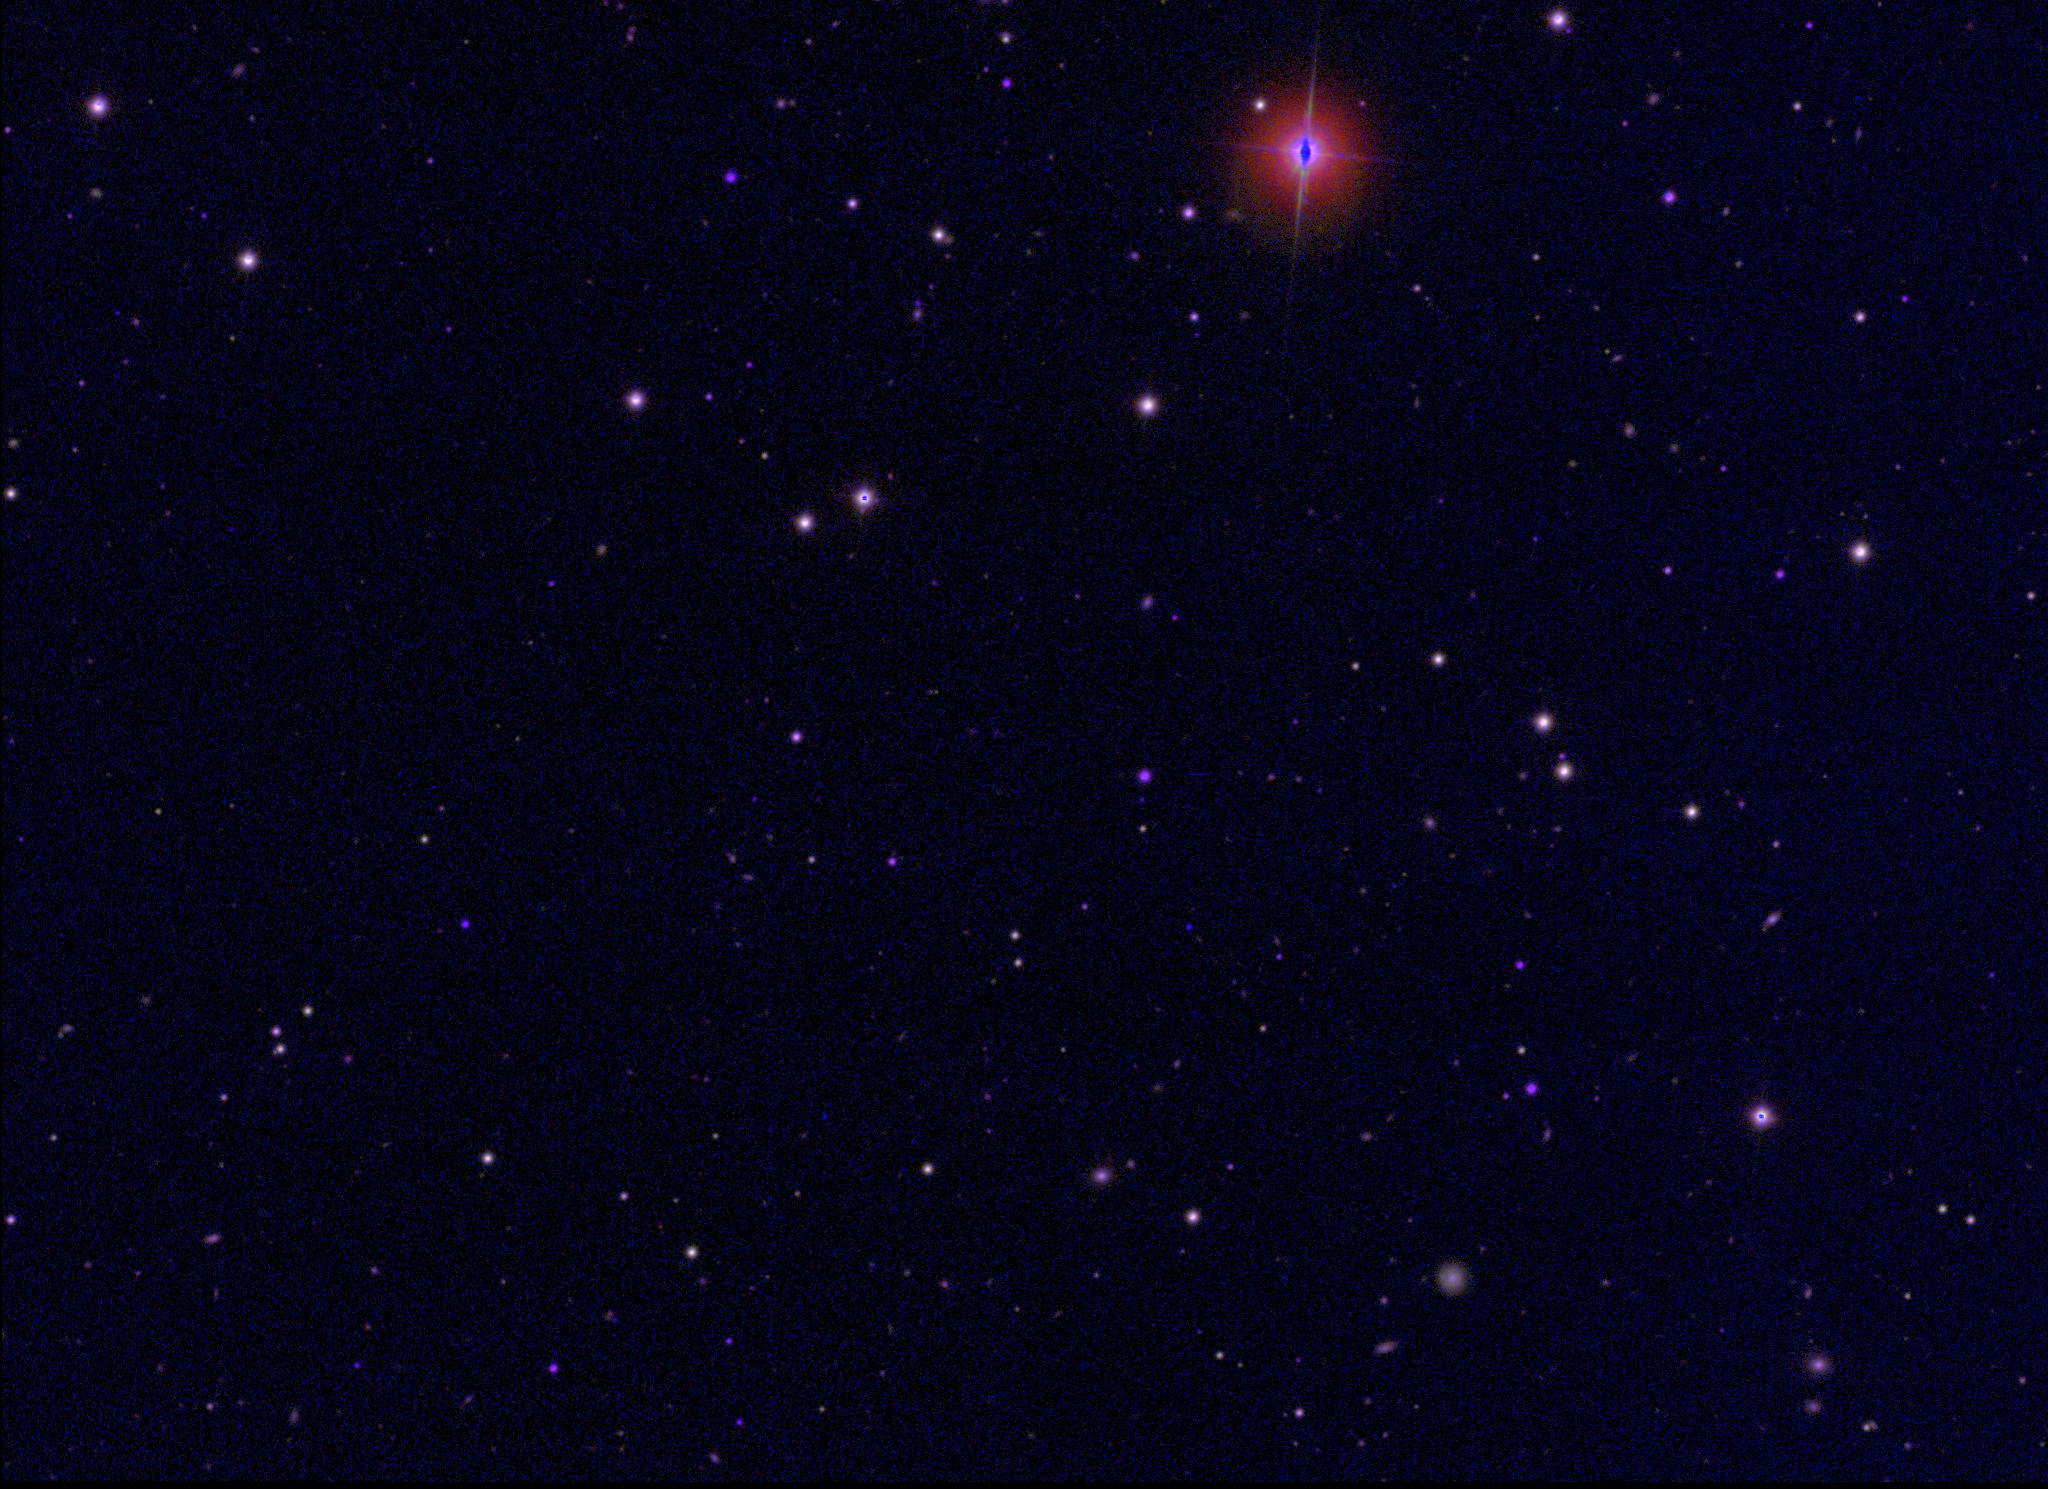L: (1181, 919, 1196, 934)
